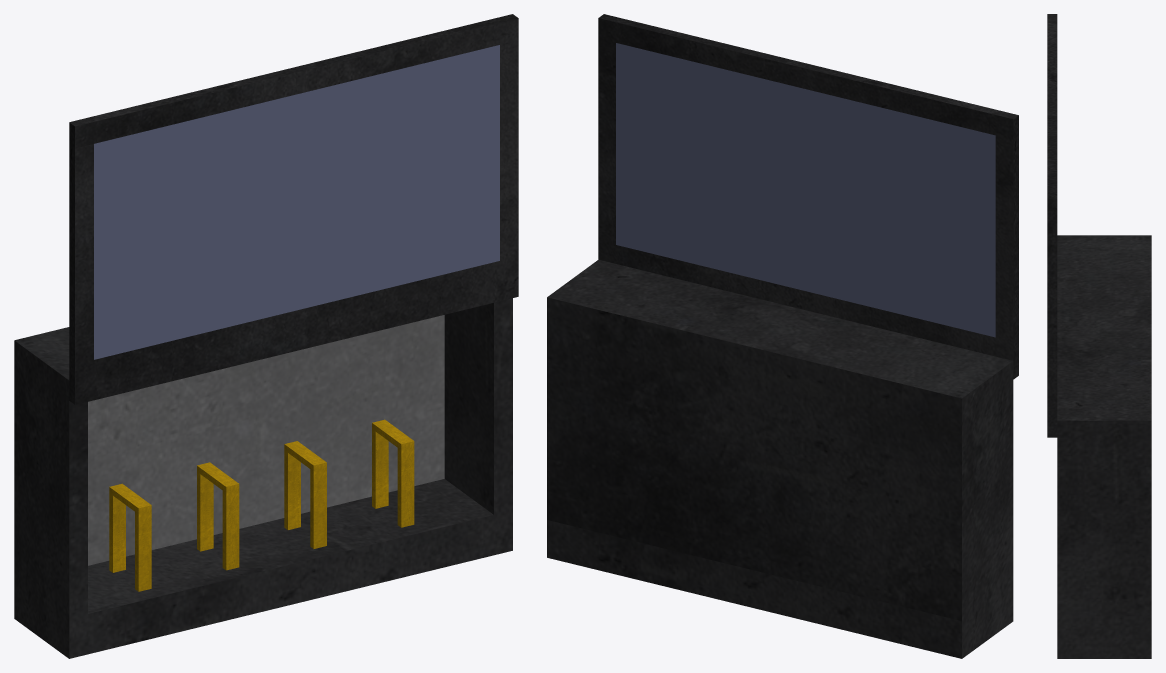
File: CabineBatteries.fbx
The picture shows the model from 3 angles, left to right: view 1: azimuth 30°, elevation 25°; view 2: azimuth 150°, elevation 25°; view 3: azimuth 270°, elevation 25°; orthographic projection. The views are drawn at different scales.
Parts seen in each view (by area): view 1: CabineDoor, Cabine, Separators.003, Separators.001, Separators.002, Separators; view 2: Cabine, CabineDoor; view 3: Cabine, CabineDoor.
Boxes of the visible parts, x1,y1,x2,y2 form: CabineDoor: (69,14,518,404); Cabine: (14,298,512,658); Separators.003: (372,419,414,527); Separators.001: (197,462,239,570); Separators.002: (284,441,326,548); Separators: (109,483,151,591); Cabine: (547,259,1013,658); CabineDoor: (598,14,1018,379); Cabine: (1057,235,1151,658); CabineDoor: (1047,14,1057,437).
Size of the model in its own units: 431 by 498 by 102.
Materials: 2 (1 with a texture image).
